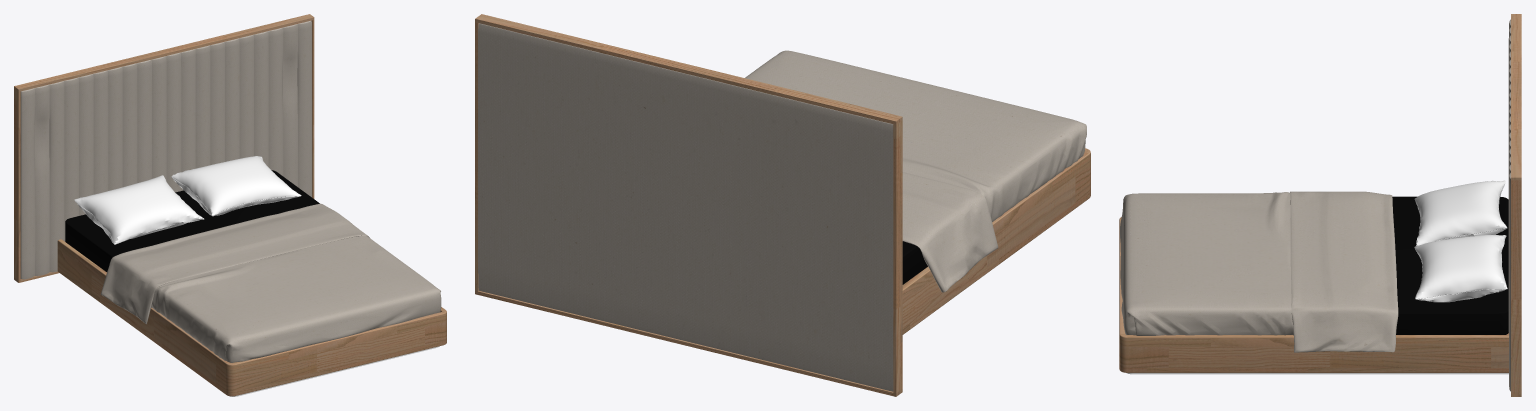
The model's file is Bed.fbx.
3 views of the same model, side by side, from view 1: azimuth 30°, elevation 25°; view 2: azimuth 150°, elevation 25°; view 3: azimuth 270°, elevation 25° (orthographic). The views are drawn at different scales.
Visible parts, largest first — view 1: Bed; view 2: Bed; view 3: Bed.
Boxes of the visible parts, x1=… form: Bed: x1=14, y1=14, x2=446, y2=396; Bed: x1=475, y1=14, x2=1090, y2=396; Bed: x1=1119, y1=14, x2=1521, y2=396.
Size of the model in its own units: 380 by 238 by 395.
